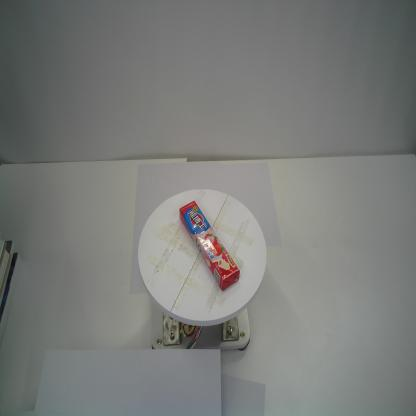Candy: (178, 200, 240, 292)
